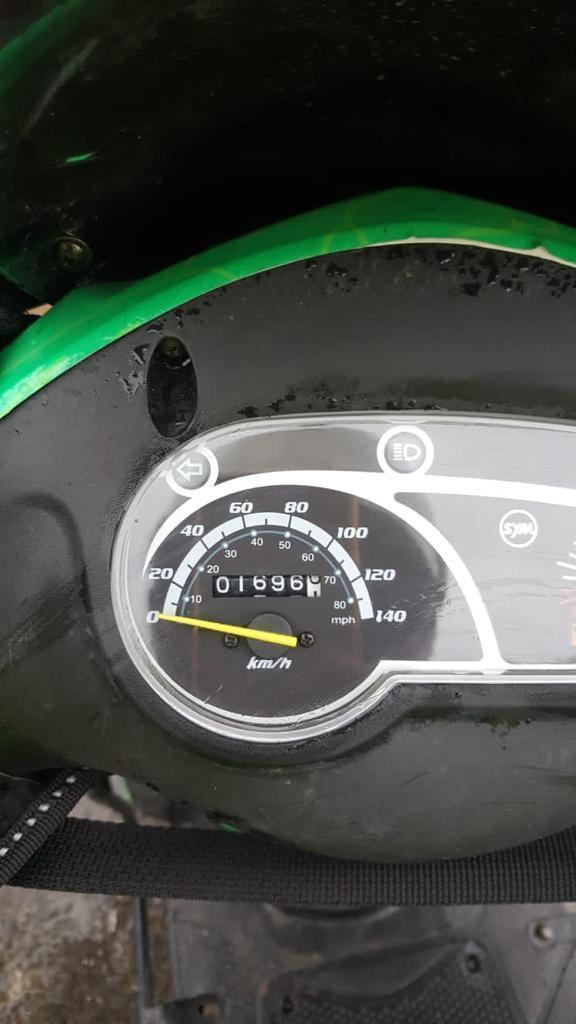0: (215, 575, 230, 594), (309, 573, 322, 585)
1: (236, 575, 246, 594)
6: (252, 574, 268, 591), (289, 575, 304, 593)
9: (270, 574, 285, 593)
odometer: (210, 574, 325, 599)
